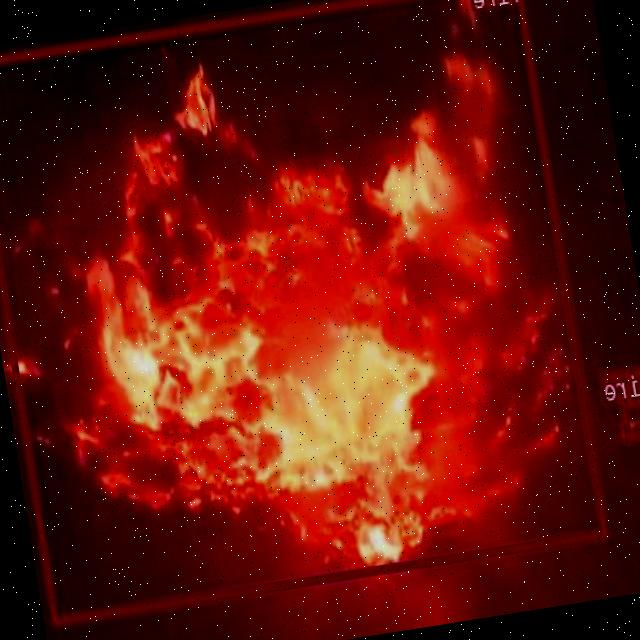fire: (0, 0, 610, 623), (622, 393, 640, 439)
